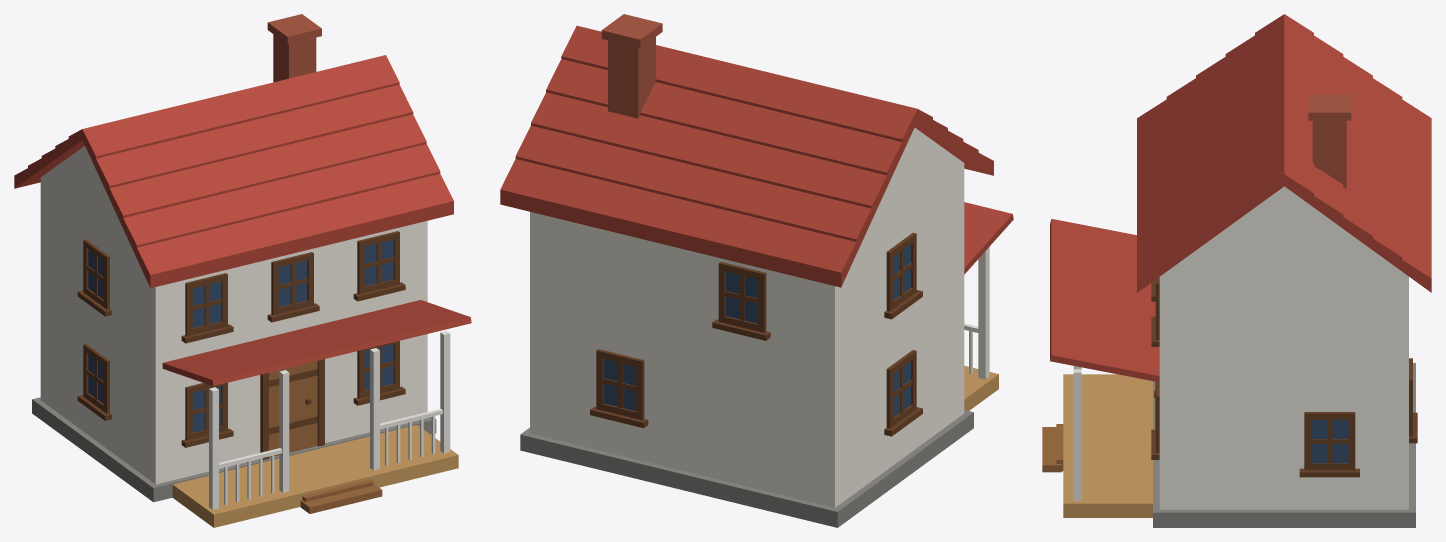
File: farmhouse.glb
The picture shows the model from 3 angles, left to right: view 1: azimuth 30°, elevation 25°; view 2: azimuth 150°, elevation 25°; view 3: azimuth 270°, elevation 25°; orthographic projection. The views are drawn at different scales.
Visible parts, largest first — view 1: Farmhouse roof, Farmhouse walls, Farmhouse window frames, Porch deck, Porch roof, Porch posts, Farmhouse windows, Farmhouse plinth, Farmhouse door, Farmhouse chimney, Porch railing, Farmhouse door frame (+1 smaller); view 2: Farmhouse walls, Farmhouse roof, Farmhouse plinth, Farmhouse window frames, Farmhouse chimney, Farmhouse windows, Porch roof, Porch posts, Porch deck; view 3: Farmhouse walls, Farmhouse roof, Porch roof, Porch deck, Farmhouse plinth, Farmhouse window frames, Farmhouse chimney, Farmhouse windows, Porch posts, Porch steps.
Part boxes in pixels (x1,y1,x2,y2): Farmhouse roof: (14,55,453,288); Farmhouse walls: (40,146,427,484); Farmhouse window frames: (77,231,405,447); Porch deck: (172,425,458,527); Porch roof: (162,300,471,386); Porch posts: (209,331,450,509); Farmhouse windows: (88,239,393,432); Farmhouse plinth: (32,397,436,502); Farmhouse door: (269,361,317,457); Farmhouse chimney: (267,14,321,82); Porch railing: (219,409,442,504); Farmhouse door frame: (260,359,324,459); Farmhouse walls: (530,127,964,507); Farmhouse roof: (500,25,993,287); Farmhouse plinth: (520,410,973,527); Farmhouse window frames: (590,232,922,436); Farmhouse chimney: (601,14,662,118); Farmhouse windows: (603,244,910,416); Porch roof: (964,202,1013,274); Porch posts: (978,247,989,379); Porch deck: (964,365,998,410); Farmhouse walls: (1159,186,1408,509); Farmhouse roof: (1137,14,1431,292); Porch roof: (1050,219,1159,382); Porch deck: (1063,374,1152,517); Farmhouse plinth: (1153,363,1415,527); Farmhouse window frames: (1151,277,1417,477); Farmhouse chimney: (1308,94,1351,188); Farmhouse windows: (1311,420,1348,463); Porch posts: (1073,366,1081,500); Porch steps: (1042,424,1063,472).
Bounding box in the file's own units: 6.7 × 7.65 × 6.88.
